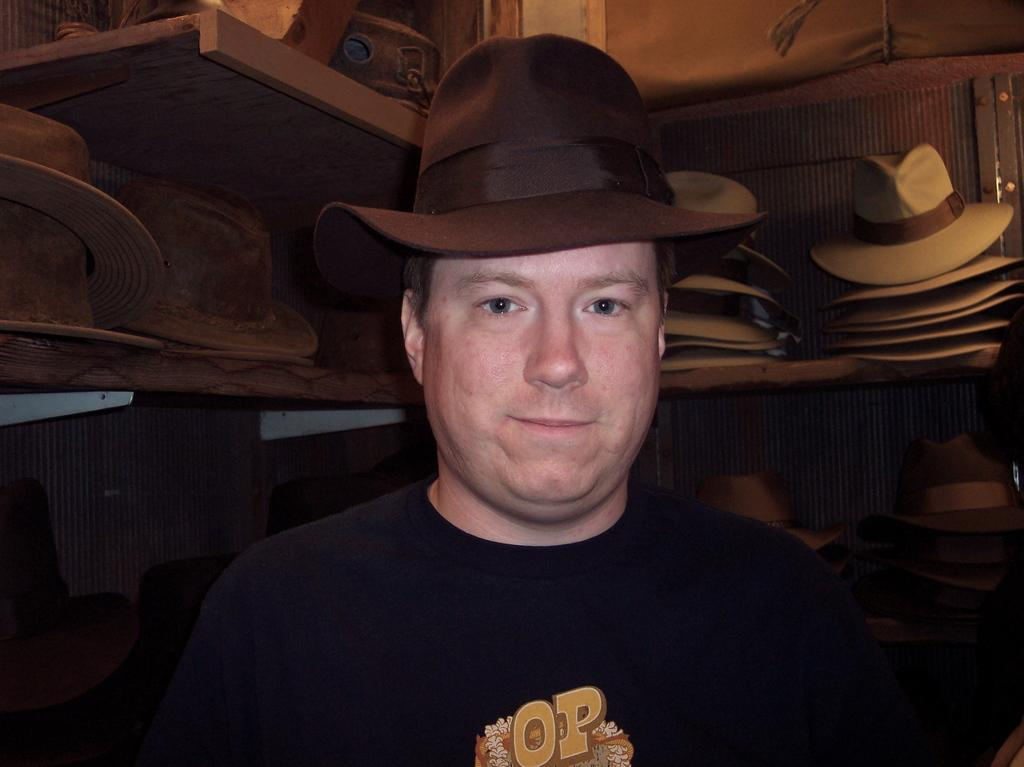Hat: (0, 32, 1023, 714)
